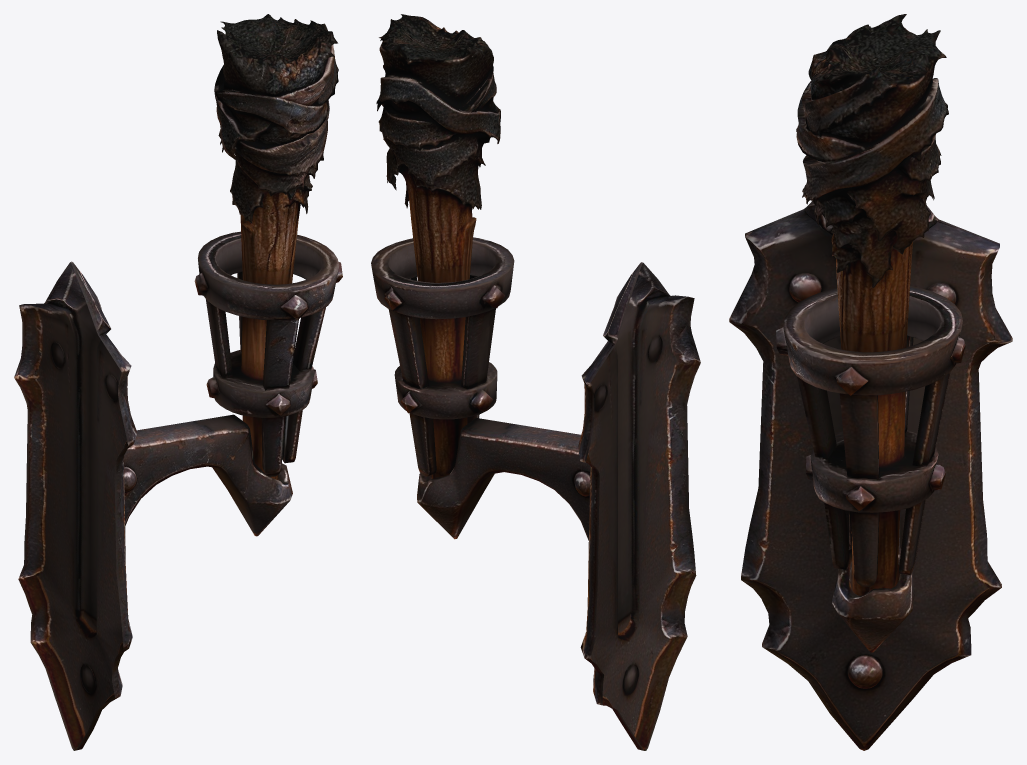
File: prop_torch.glb
The picture shows the model from 3 angles, left to right: view 1: azimuth 30°, elevation 25°; view 2: azimuth 150°, elevation 25°; view 3: azimuth 270°, elevation 25°; orthographic projection. The views are drawn at different scales.
Parts seen in each view (by area): view 1: tripo_node_e764dcbb-132e-4a2e-8b16-f0975e9c40b6; view 2: tripo_node_e764dcbb-132e-4a2e-8b16-f0975e9c40b6; view 3: tripo_node_e764dcbb-132e-4a2e-8b16-f0975e9c40b6.
Boxes of the visible parts, x1,y1,x2,y2 form: tripo_node_e764dcbb-132e-4a2e-8b16-f0975e9c40b6: [14, 14, 342, 750]; tripo_node_e764dcbb-132e-4a2e-8b16-f0975e9c40b6: [371, 14, 700, 750]; tripo_node_e764dcbb-132e-4a2e-8b16-f0975e9c40b6: [729, 14, 1012, 750].
Bounding box in the file's own units: 0.4106 × 0.9995 × 0.3091.
Materials: 1 (1 with a texture image).
